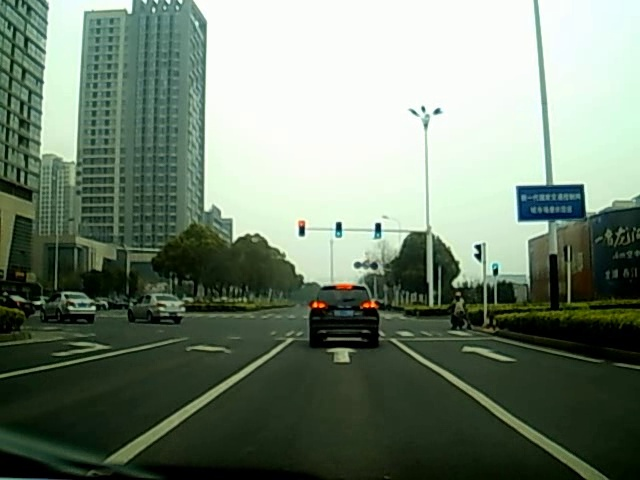Traffic_Light_go: (376, 223, 382, 239), (336, 223, 341, 239)
Traffic_Light_stop: (297, 220, 305, 237)
